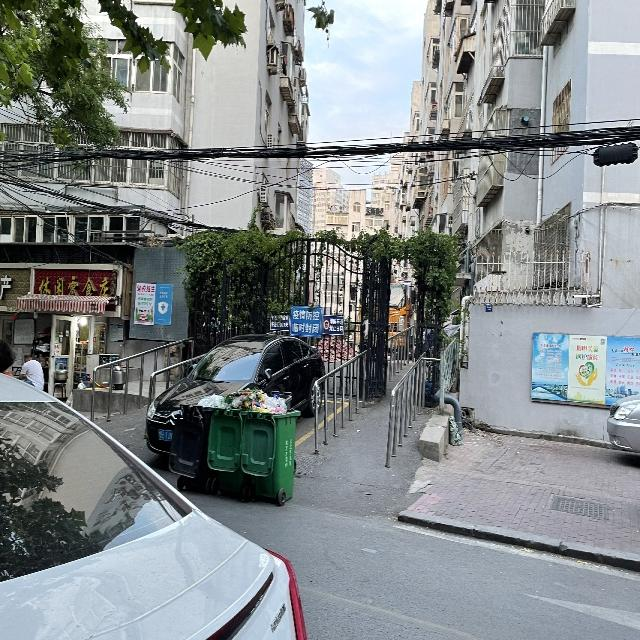overflow: (241, 389, 299, 501), (168, 392, 222, 490), (206, 386, 252, 496)
